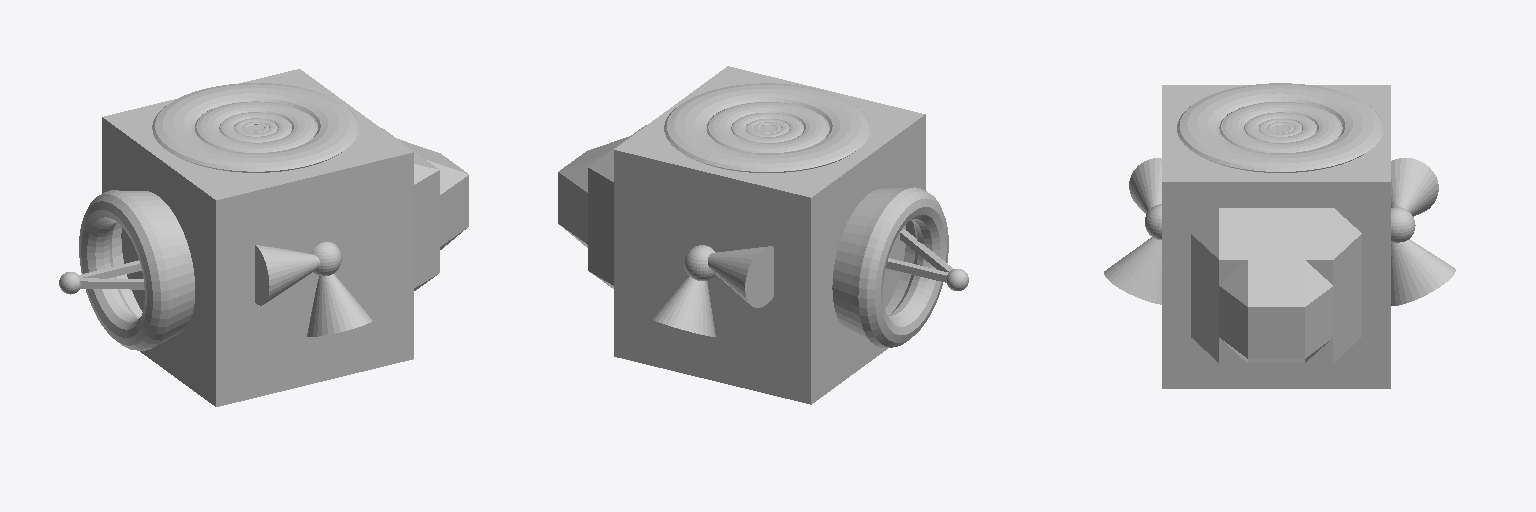
Rendered from CubeSat.obj.
3 views of the same model, side by side, from view 1: azimuth 30°, elevation 25°; view 2: azimuth 150°, elevation 25°; view 3: azimuth 270°, elevation 25° (orthographic).
Visible parts, largest first — view 1: Sphere_Sphere.002; view 2: Sphere_Sphere.002; view 3: Sphere_Sphere.002.
Part boxes in pixels (x1,y1,x2,y2): Sphere_Sphere.002: (59, 69, 468, 406); Sphere_Sphere.002: (558, 66, 968, 404); Sphere_Sphere.002: (1104, 83, 1455, 388).
Size of the model in its own units: 3.99 by 2.56 by 3.08.